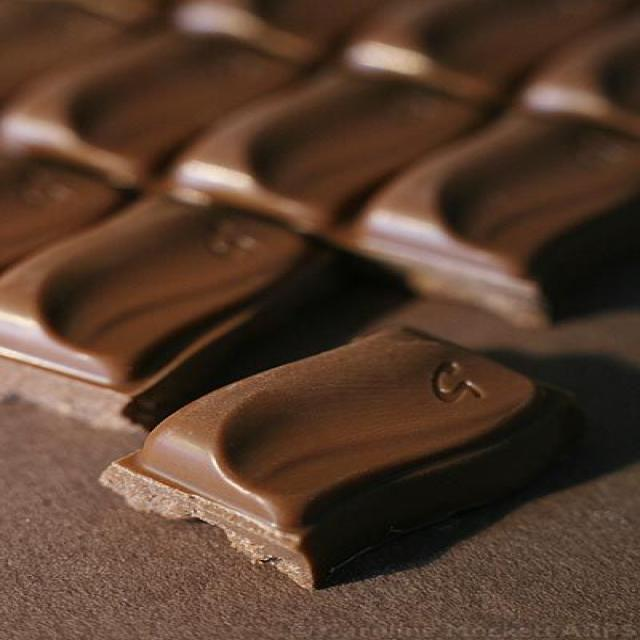Chocolate: (103, 322, 594, 579)
